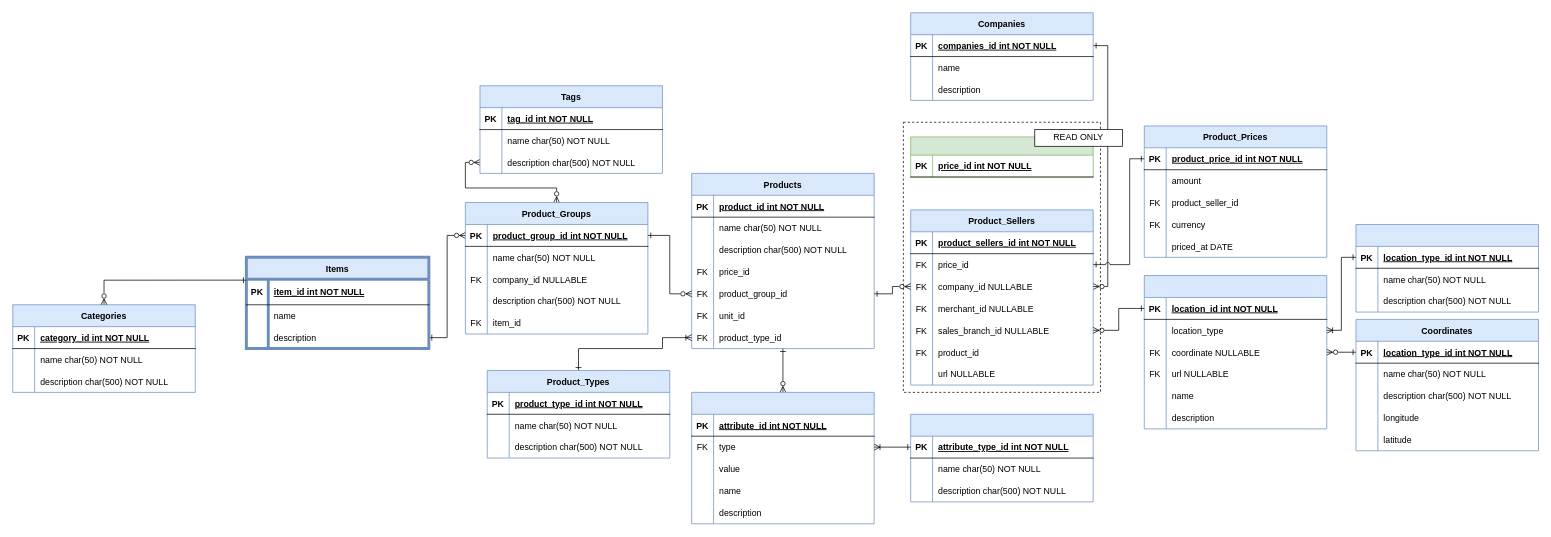
This 1551x537 diagram has some shape labels left out. Here are the shapes that lost their labels. From the top down, the box of each, then its label:
(910, 136, 1093, 177): Prices
(1355, 224, 1538, 312): Location_Types
(1144, 275, 1327, 429): Sales_Branches
(691, 392, 874, 524): Attributes
(910, 414, 1093, 502): Attribute_Types
